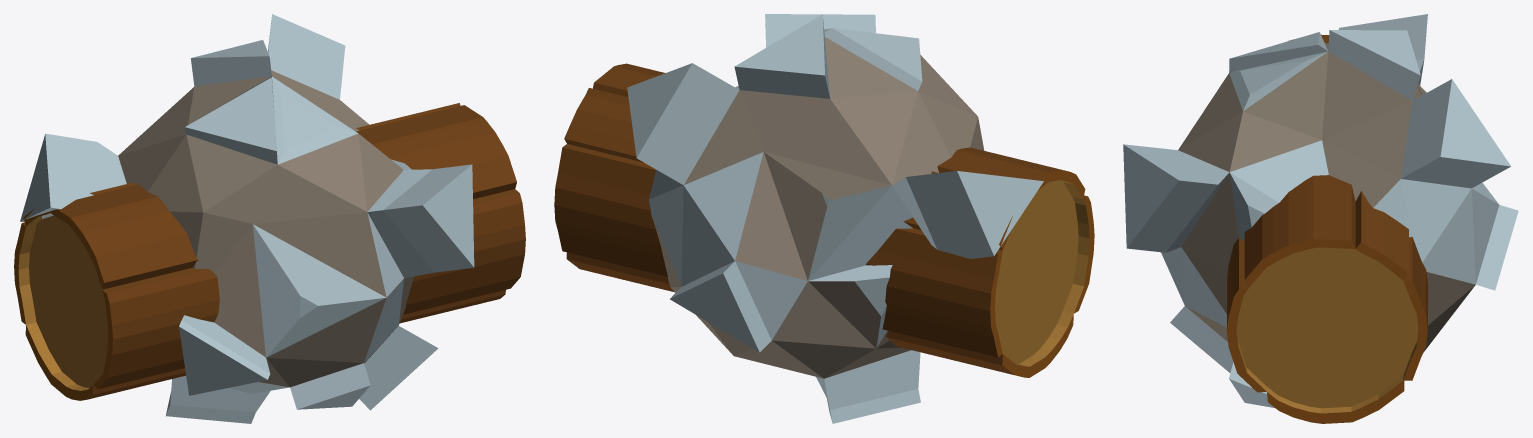
The model's file is raw_iron.gltf.
3 renders of one model, left to right at view 1: azimuth 30°, elevation 25°; view 2: azimuth 150°, elevation 25°; view 3: azimuth 270°, elevation 25°, orthographic. The views are drawn at different scales.
Visible parts, largest first — view 1: Icosphere, Cylinder; view 2: Icosphere, Cylinder; view 3: Icosphere, Cylinder.
Boxes of the visible parts, box(x1,y1,x2,y2) form: Icosphere: box(20, 14, 474, 423); Cylinder: box(14, 103, 525, 400); Icosphere: box(627, 14, 1043, 423); Cylinder: box(554, 63, 1094, 377); Icosphere: box(1123, 14, 1518, 407); Cylinder: box(1227, 34, 1427, 423).
Size of the model in its own units: 2.86 by 2.41 by 2.3.
